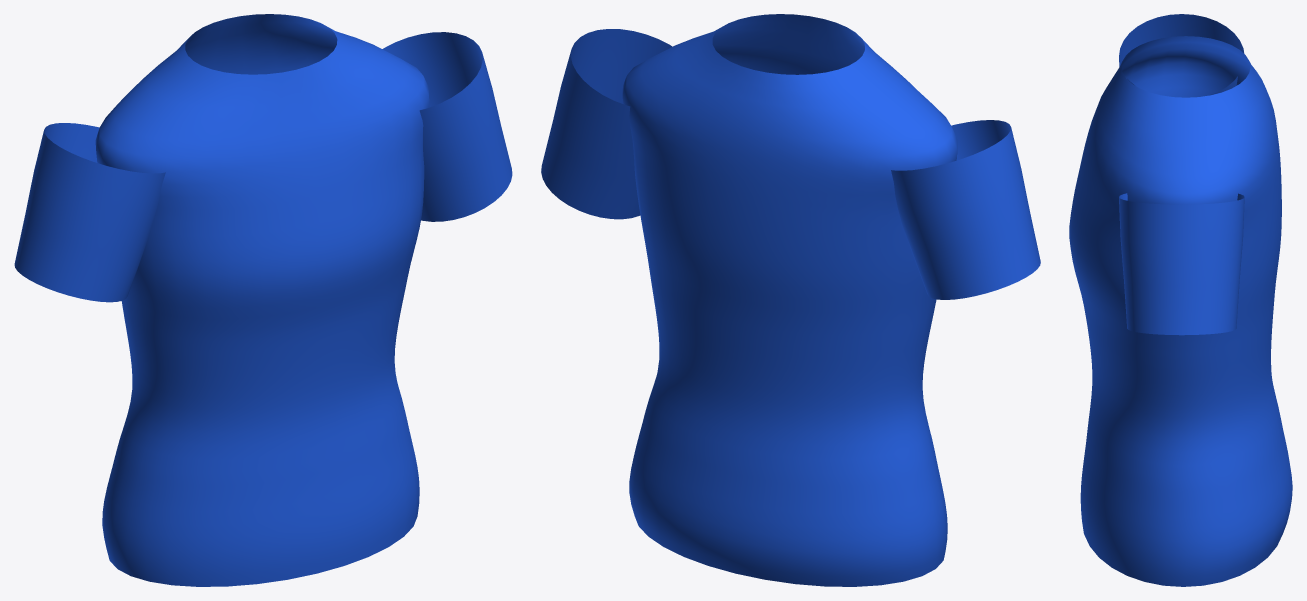
The model's file is garment.glb.
The picture shows the model from 3 angles, left to right: view 1: azimuth 30°, elevation 25°; view 2: azimuth 150°, elevation 25°; view 3: azimuth 270°, elevation 25°; orthographic projection. The views are drawn at different scales.
Parts seen in each view (by area): view 1: SampleTShirt; view 2: SampleTShirt; view 3: SampleTShirt.
Boxes of the visible parts, x1=… form: SampleTShirt: x1=14, y1=14, x2=512, y2=586; SampleTShirt: x1=541, y1=14, x2=1040, y2=586; SampleTShirt: x1=1069, y1=14, x2=1292, y2=586.
Bounding box in the file's own units: 0.6244 × 0.605 × 0.2697.
